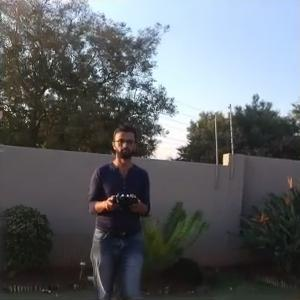follow: (85, 118, 156, 298)
